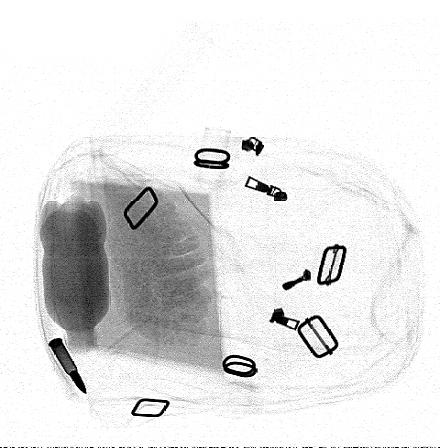Bullet: (47, 337, 88, 395)
